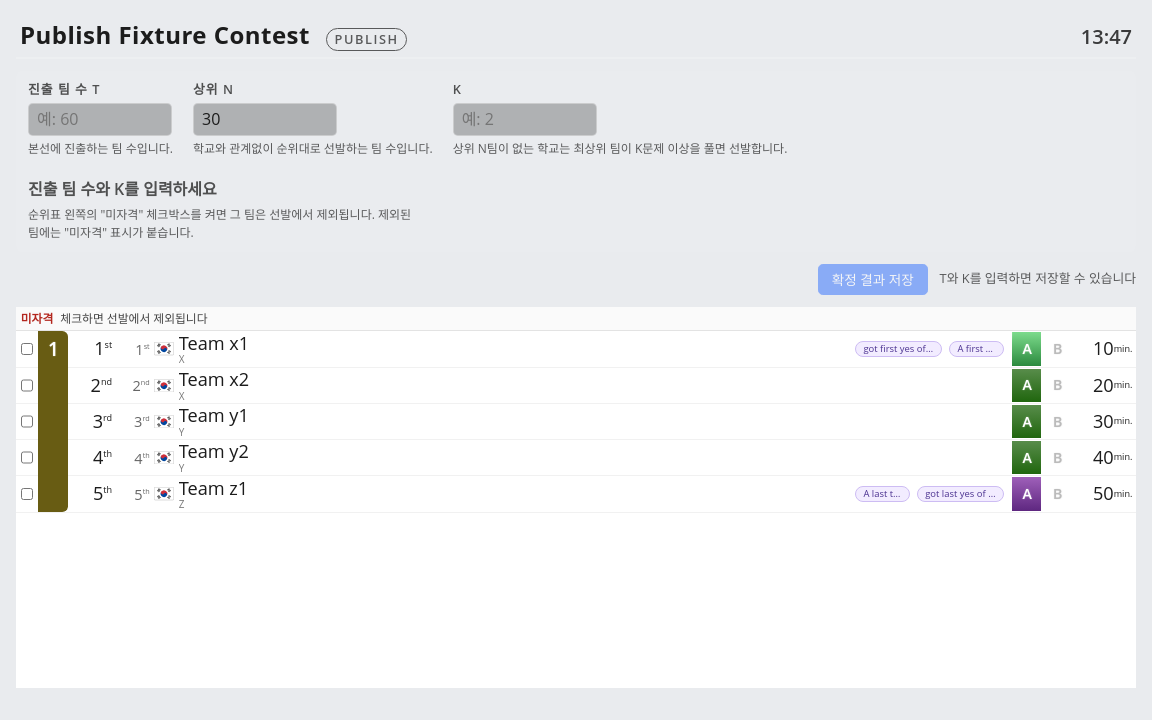
PublishView preliminary mode › preliminary: entering T and K paints selected rows yellow and shows the summary
Type "4" into the field labelled "진출 팀 수 T 본선에 진출하는 팀 수입니다.".
click(100, 120); type("4")  # box [28,102,172,136]
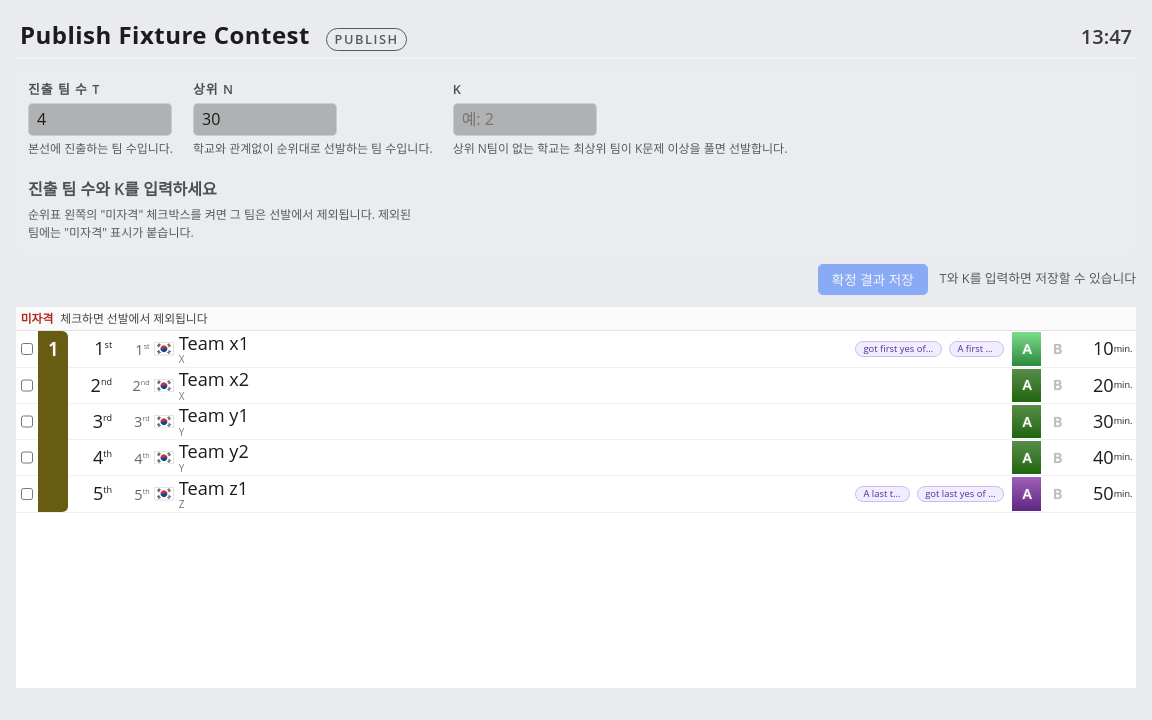
Replace the text in the field labelled "상위 N 학교와 관계없이 순위대로 선발하는 팀 수입니다." with "1" at (265,120), box [193,102,337,136]
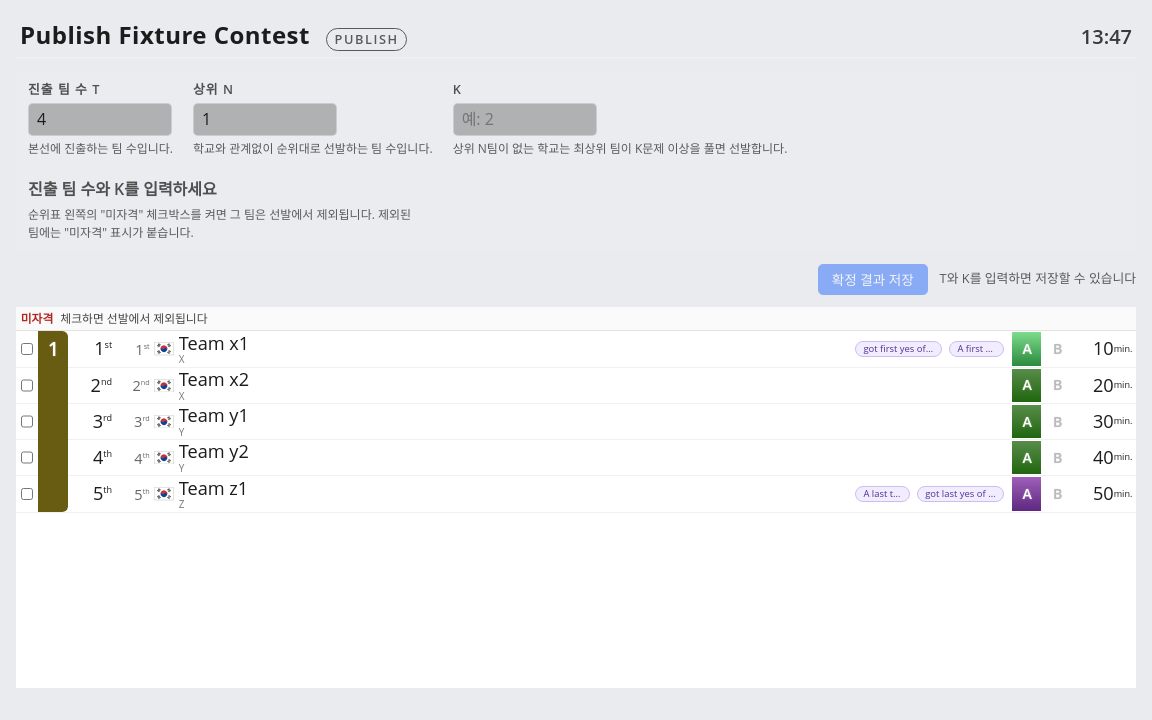
Type "1" into the field labelled "K 상위 N팀이 없는 학교는 최상위 팀이 K문제 이상을 풀면 선발합니다.".
click(525, 120); type("1")  # box [453,102,597,136]
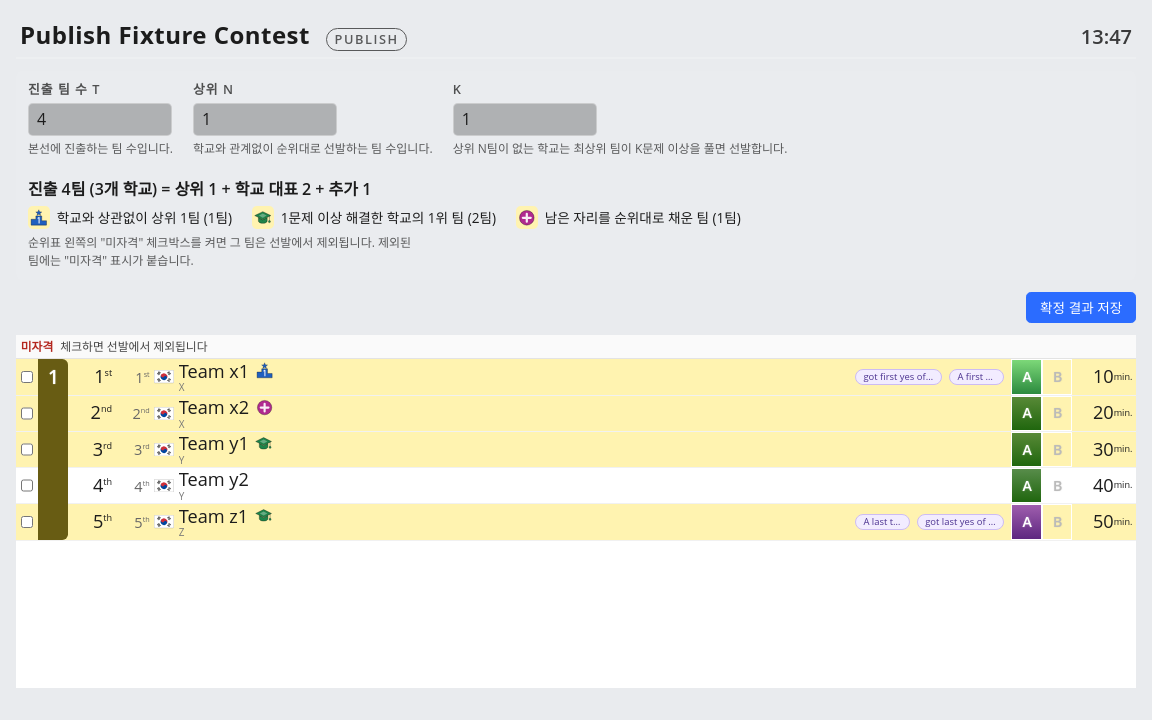
Check: the list is shown, box [28,206,741,229]
Check: the message "진출 4팀 (3개 학교) = 상위 1 + 학교 대표 2 + 추가 1" is shown, box [28,178,371,200]
Check: the text "진출 팀 수와 K를 입력하세요" is gone
